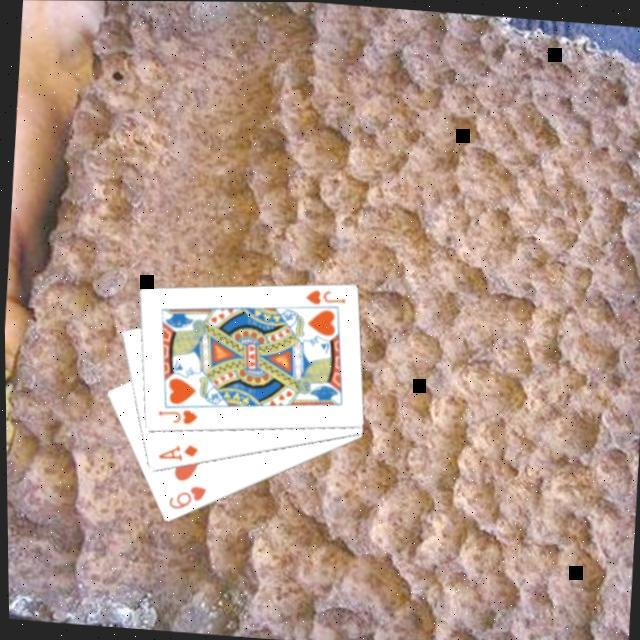6H: (160, 478, 206, 512)
AD: (151, 437, 198, 463)
JH: (298, 284, 345, 307), (151, 402, 196, 425)
